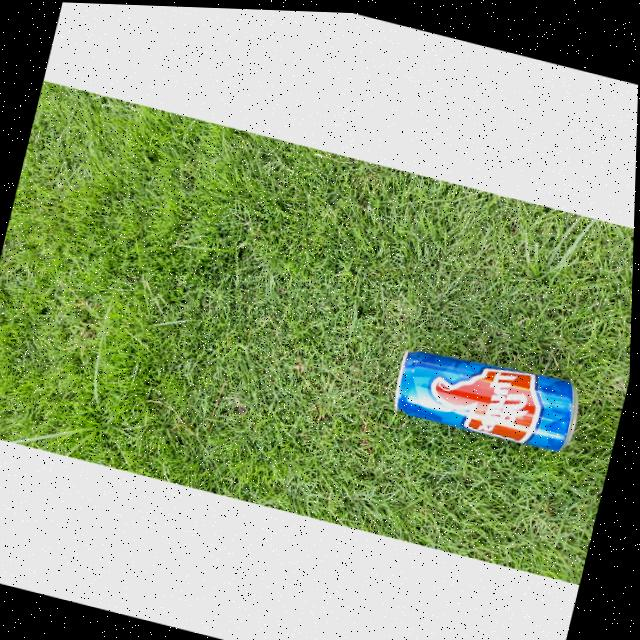Thums Up: (385, 324, 601, 463)
